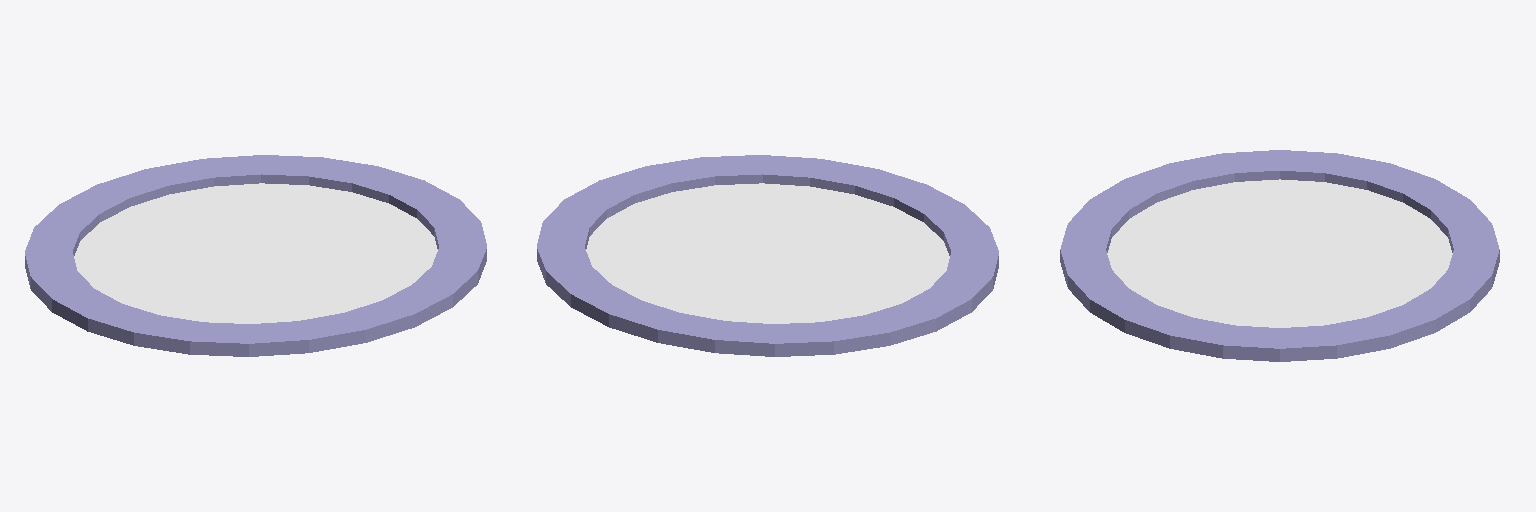
File: hole.obj
3 renders of one model, left to right at view 1: azimuth 30°, elevation 25°; view 2: azimuth 150°, elevation 25°; view 3: azimuth 270°, elevation 25°, orthographic.
Visible parts, largest first — view 1: mergedBlocks; view 2: mergedBlocks; view 3: mergedBlocks.
Boxes of the visible parts, x1,y1,x2,y2 form: mergedBlocks: [25, 155, 486, 356]; mergedBlocks: [537, 155, 998, 356]; mergedBlocks: [1060, 150, 1499, 361].
Bounding box in the file's own units: 0.9624 × 0.03 × 0.8982.